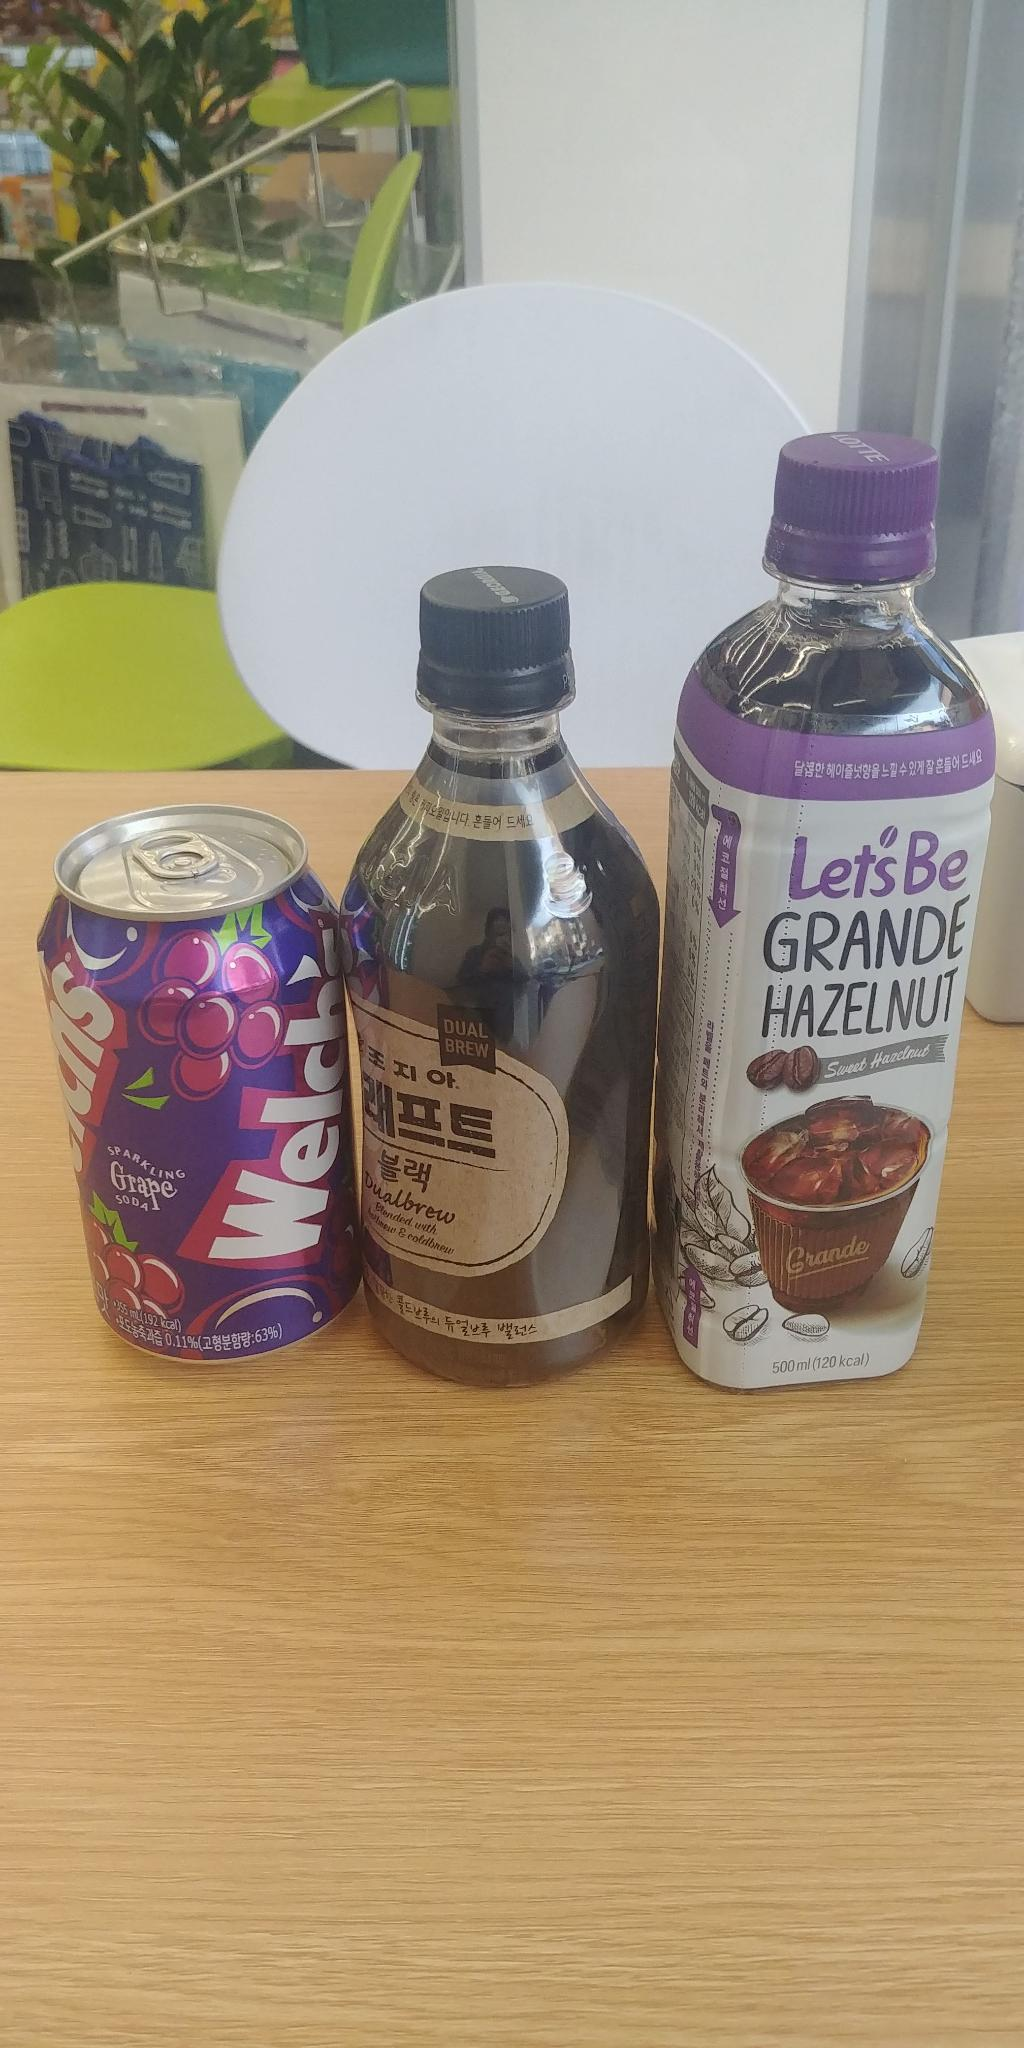georgiacraft_black: (313, 541, 680, 1387)
letsbe_grande_hazelnut: (645, 414, 989, 1411)
welchs_grape: (30, 790, 370, 1386)
